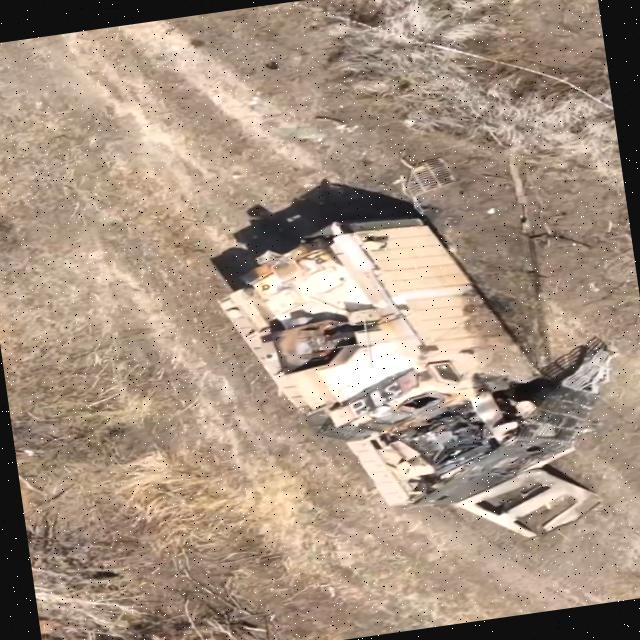Destroyed: (193, 187, 627, 548)
